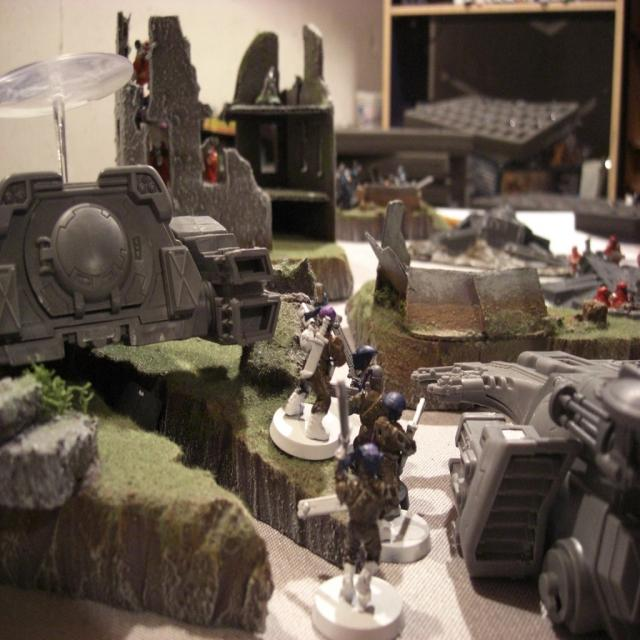tank: (407, 349, 639, 639), (0, 155, 281, 373)
